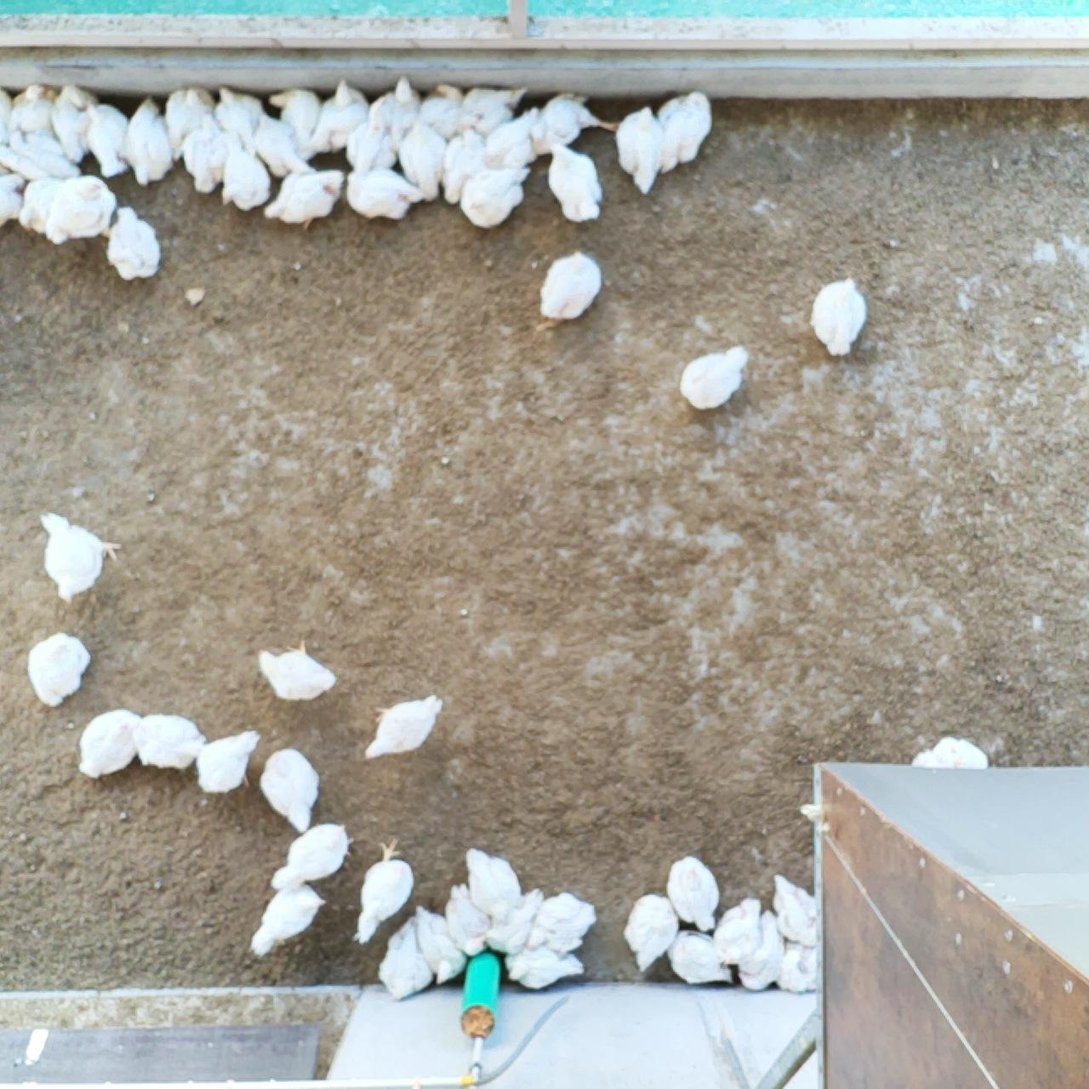chicken: (37, 504, 125, 612), (351, 838, 418, 946), (528, 89, 628, 154), (120, 93, 187, 188), (359, 693, 446, 765), (269, 822, 356, 894), (251, 881, 328, 961), (408, 901, 474, 991), (456, 157, 536, 231), (259, 749, 328, 833), (252, 639, 343, 702), (25, 627, 94, 710), (534, 246, 607, 324), (307, 76, 376, 158), (496, 936, 588, 996), (653, 926, 736, 992), (541, 138, 606, 222), (344, 162, 427, 226), (809, 274, 871, 358), (42, 172, 113, 245), (733, 903, 788, 996), (190, 729, 265, 797), (371, 916, 433, 998), (76, 705, 142, 782), (163, 81, 224, 162), (0, 121, 79, 183), (678, 346, 750, 414), (178, 117, 244, 191), (654, 92, 712, 176), (106, 205, 165, 287), (623, 892, 679, 978), (265, 167, 346, 226), (448, 81, 529, 140), (133, 710, 206, 775), (250, 111, 318, 180), (614, 105, 668, 191), (220, 134, 276, 216), (398, 117, 450, 205), (489, 884, 550, 959), (461, 843, 521, 919), (662, 853, 717, 932), (530, 888, 597, 952), (80, 97, 132, 176), (442, 123, 490, 207), (52, 86, 107, 159), (480, 104, 540, 169), (363, 73, 422, 138), (346, 109, 399, 181), (768, 874, 819, 948), (267, 87, 321, 156), (714, 894, 767, 964), (445, 880, 489, 962), (413, 77, 470, 140), (9, 84, 63, 149), (772, 934, 821, 1001), (908, 734, 994, 772), (18, 174, 66, 241), (214, 85, 267, 145), (0, 168, 31, 229), (0, 82, 22, 145)
